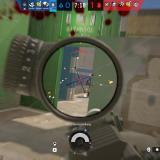Character: (85, 76, 92, 96)
Head: (88, 76, 91, 81)
